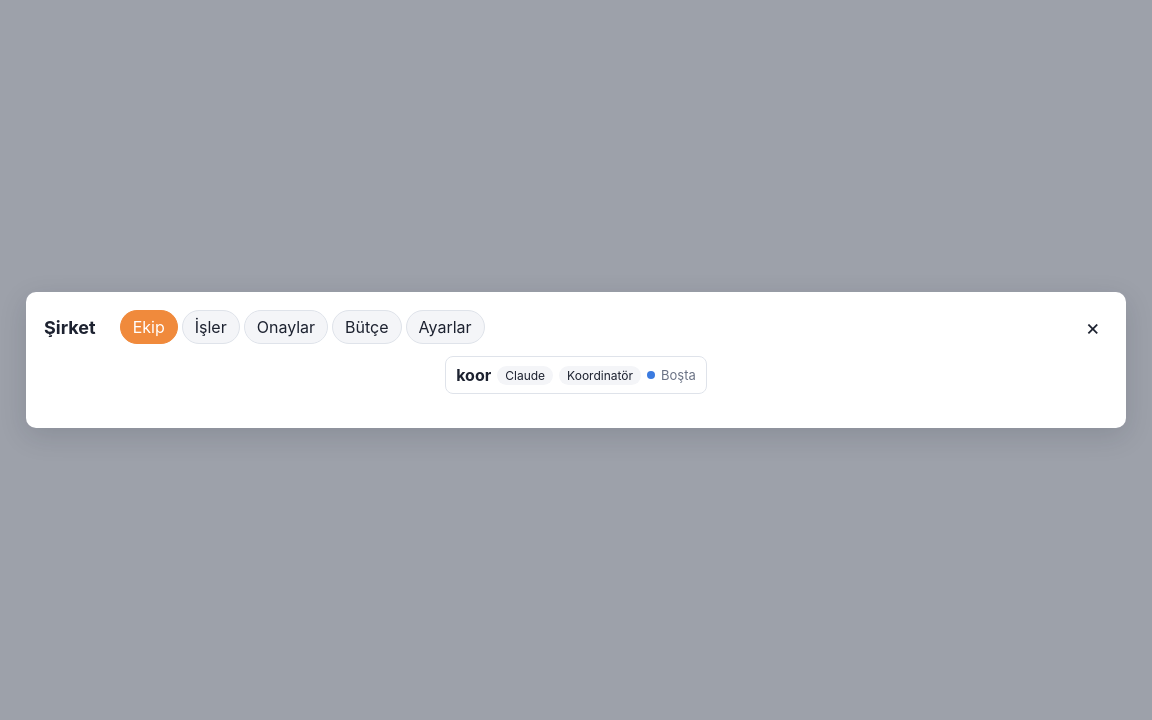
Test: CompanyView › İşler shows the agenda on its Ajanda view
Click the tab "İşler": click(211, 327) [182,310,240,344]
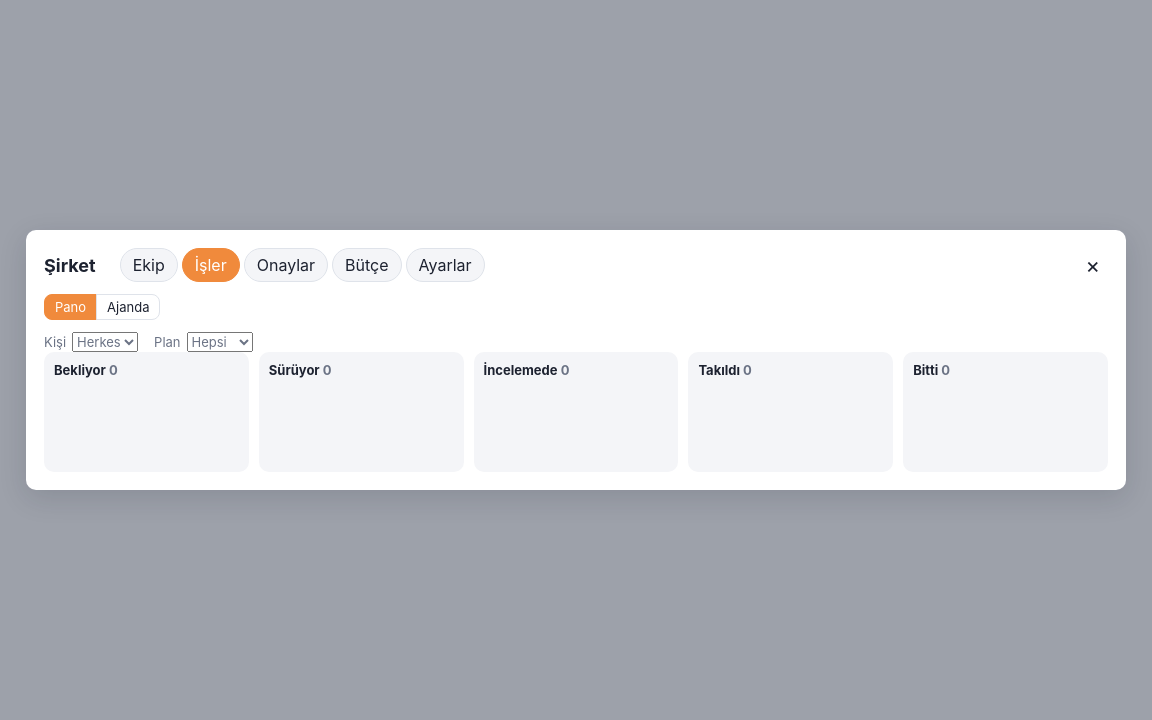
Click the button "Ajanda": click(128, 307) [96,294,160,320]
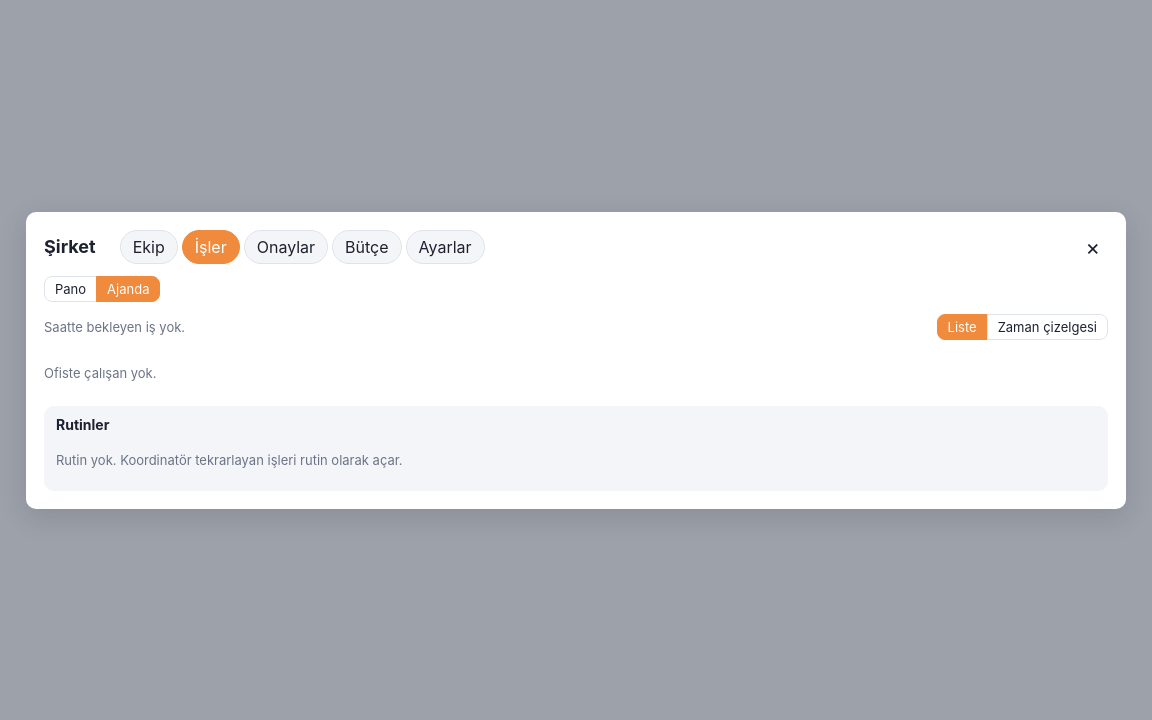
Expected: the button "Zaman çizelgesi" is shown, [987,314,1108,340]
